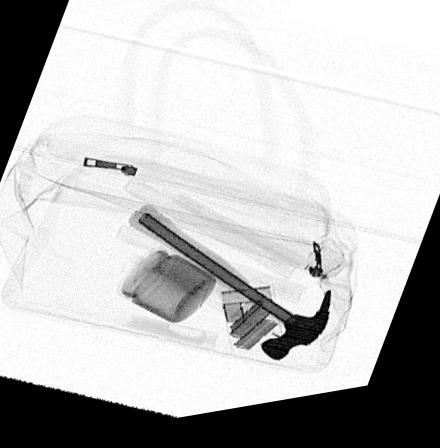Hammer: (126, 208, 332, 372)
